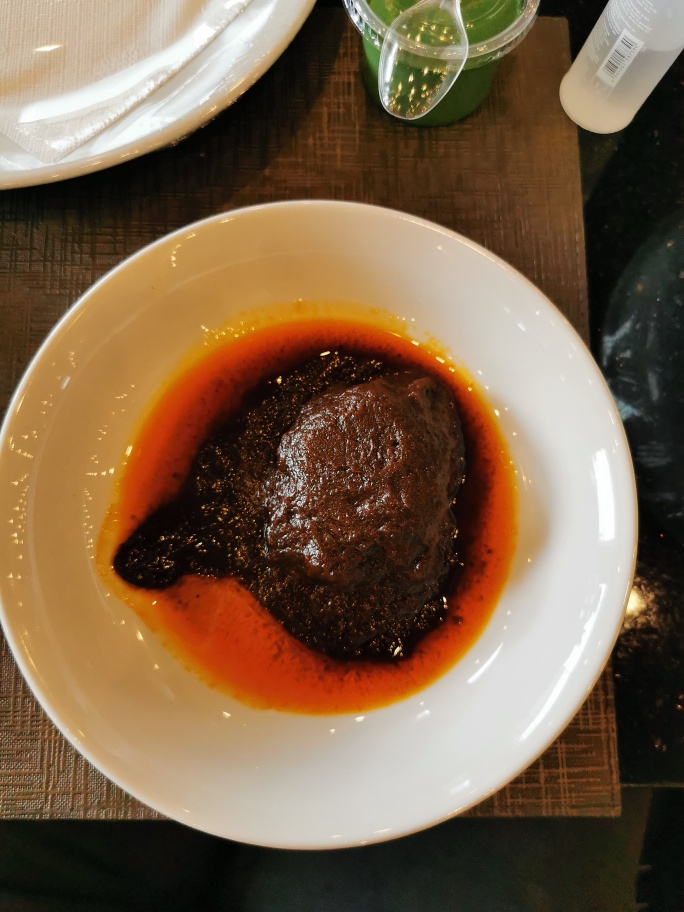rendang: (172, 338, 482, 684)
